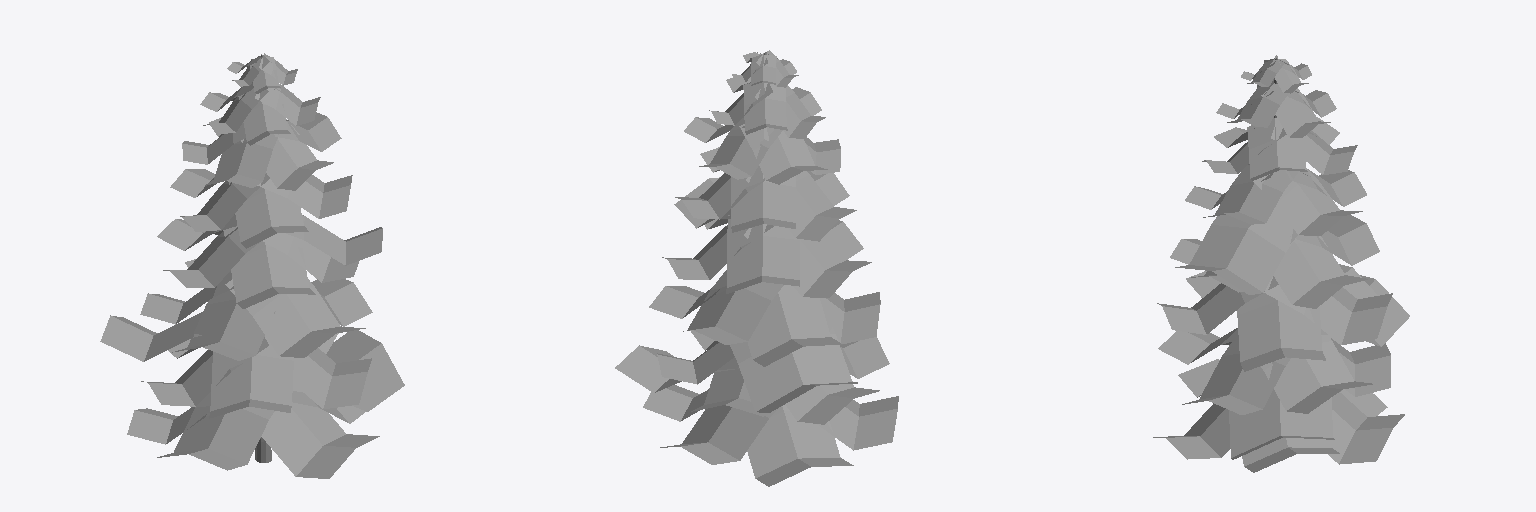
Rendered from Pine_5.obj.
The picture shows the model from 3 angles: view 1: azimuth 30°, elevation 25°; view 2: azimuth 150°, elevation 25°; view 3: azimuth 270°, elevation 25°; orthographic projection.
Visible parts, largest first — view 1: Pine_5_Cylinder.043; view 2: Pine_5_Cylinder.043; view 3: Pine_5_Cylinder.043.
Boxes of the visible parts, x1=… form: Pine_5_Cylinder.043: x1=100, y1=53, x2=404, y2=478; Pine_5_Cylinder.043: x1=615, y1=50, x2=898, y2=486; Pine_5_Cylinder.043: x1=1153, y1=55, x2=1409, y2=472.
Size of the model in its own units: 6.8 by 10.31 by 6.04.